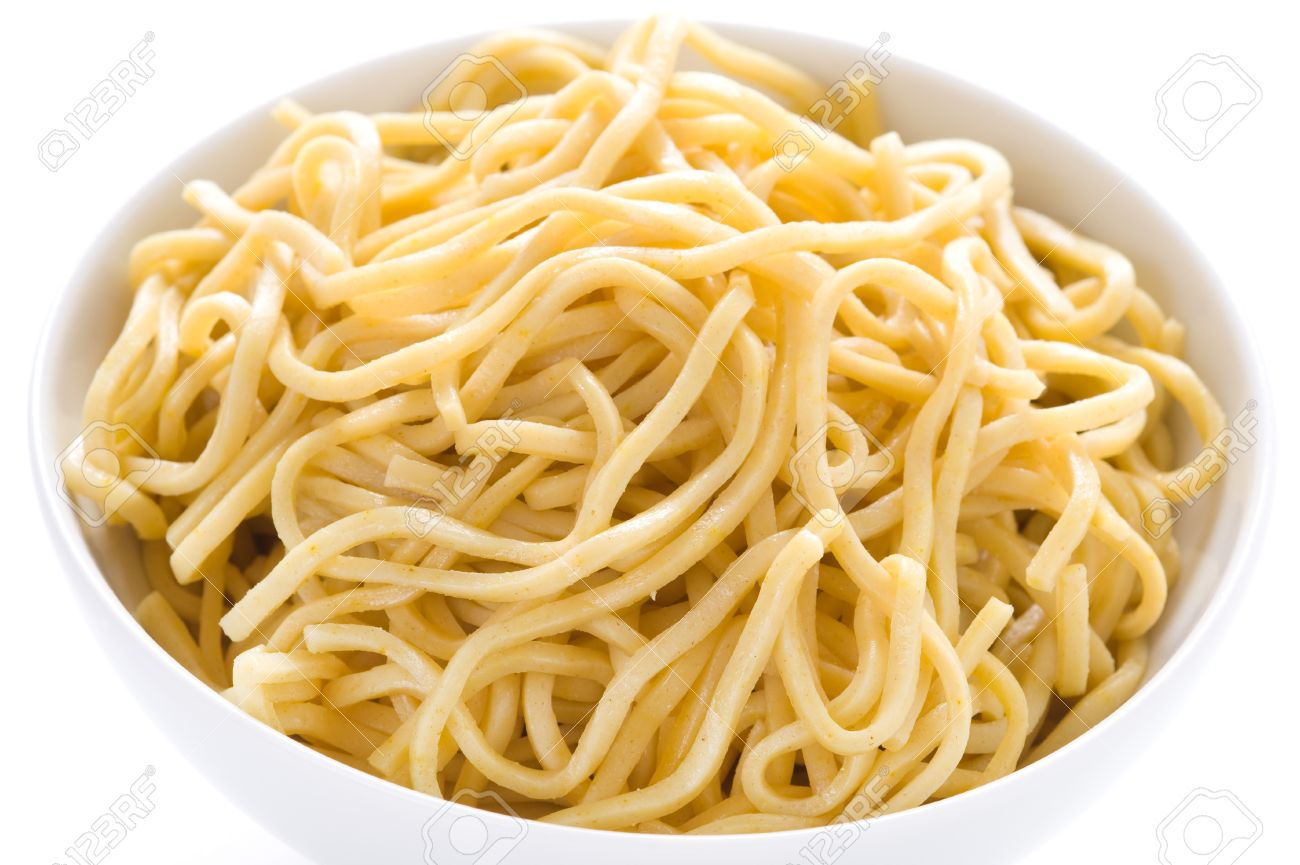plain spaghetti: (168, 79, 1125, 766)
